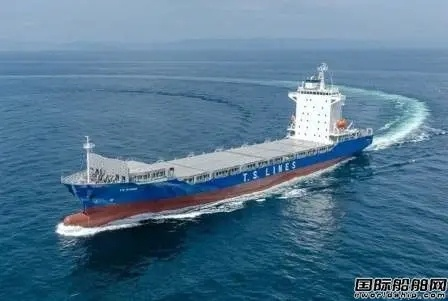Cargoship: (55, 63, 374, 232)
